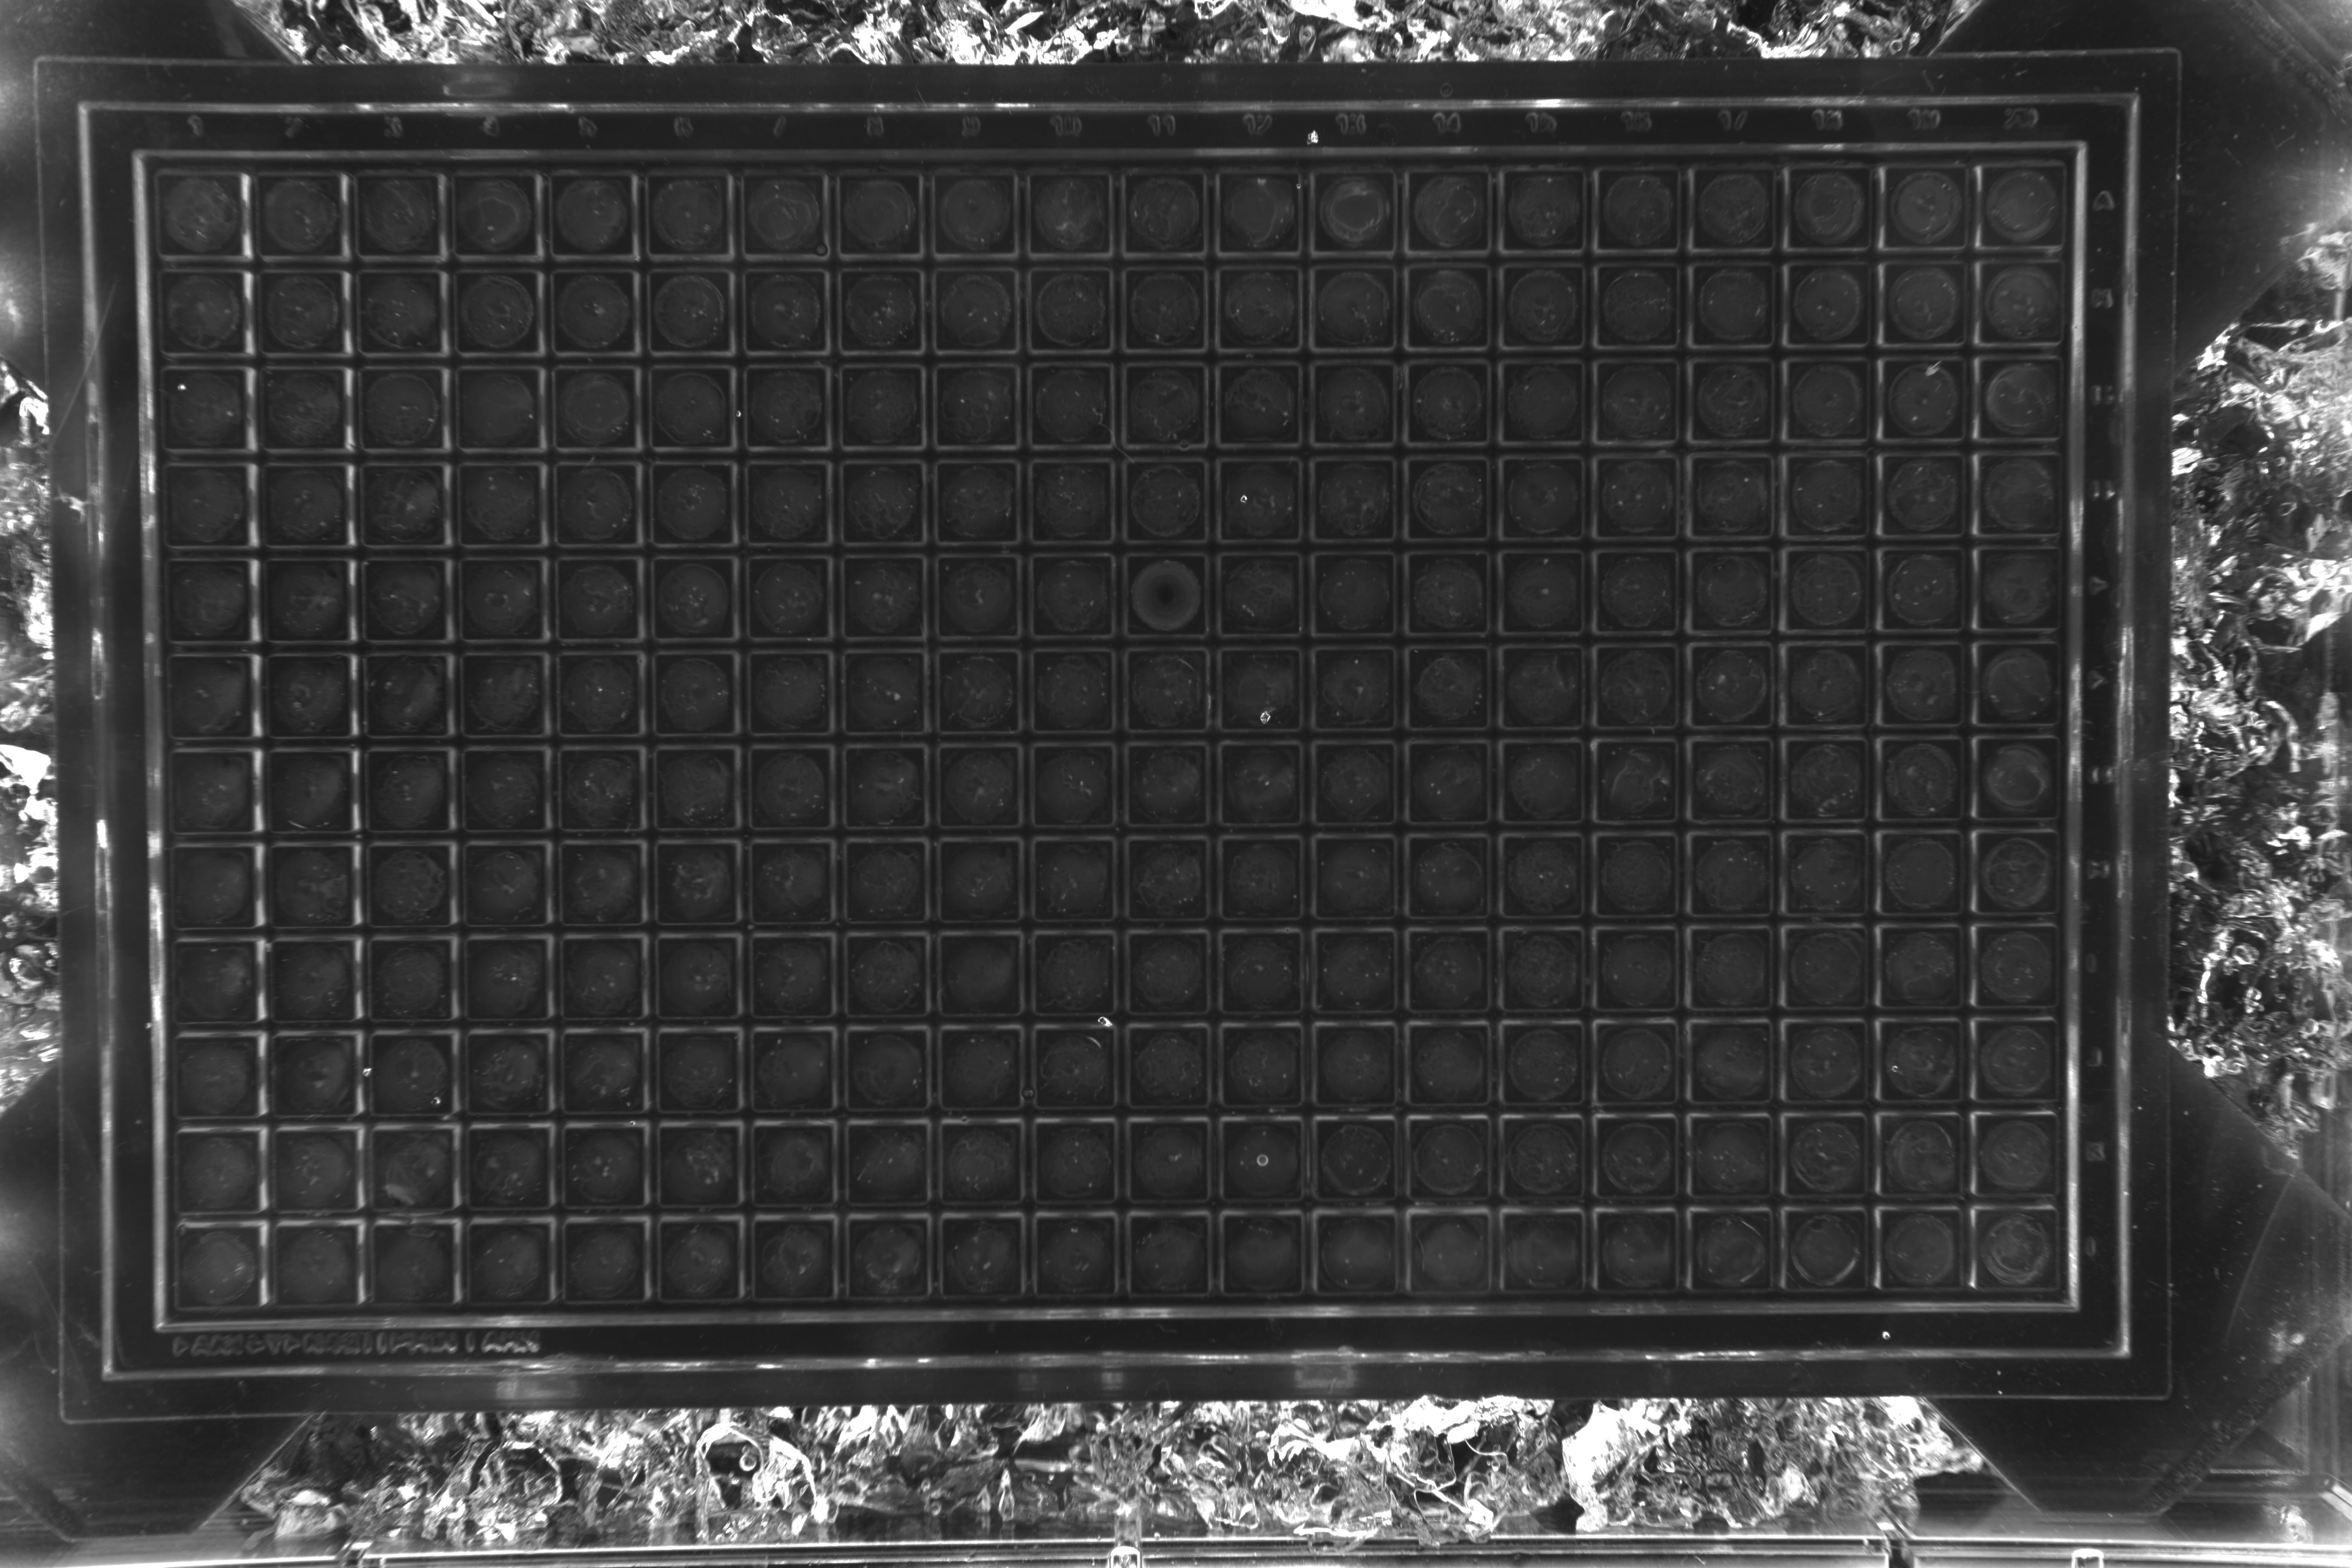WM_well: (201, 635, 290, 723), (688, 436, 777, 523), (786, 436, 875, 523), (789, 1115, 878, 1202), (1272, 1209, 1360, 1298), (303, 1120, 390, 1207), (390, 238, 478, 325), (490, 338, 577, 425), (497, 730, 584, 817), (684, 142, 772, 229), (688, 338, 775, 425), (693, 1018, 780, 1106), (983, 630, 1071, 717), (983, 726, 1071, 814), (1080, 630, 1167, 717), (1272, 1113, 1360, 1200), (1272, 920, 1360, 1008), (1370, 532, 1458, 619), (1465, 1211, 1552, 1298), (1564, 822, 1652, 910), (1762, 628, 1850, 716), (1762, 528, 1850, 616), (1858, 822, 1946, 910), (1963, 229, 2051, 317), (2058, 821, 2145, 908)
